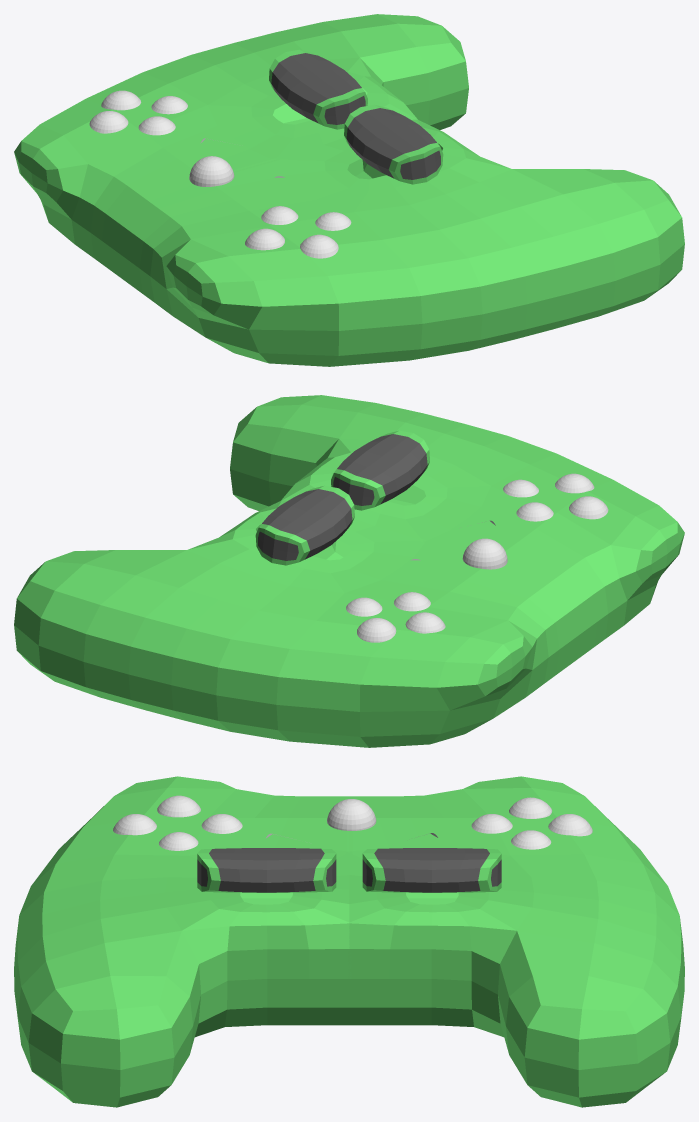
The model's file is controller.glb.
3 views of the same model, one above another, from view 1: azimuth 30°, elevation 25°; view 2: azimuth 150°, elevation 25°; view 3: azimuth 270°, elevation 25° (orthographic). The views are drawn at different scales.
Visible parts, largest first — view 1: Cube, Sphere.001, Sphere.002, Sphere; view 2: Cube, Sphere.002, Sphere.001, Sphere; view 3: Cube, Sphere.002, Sphere.001, Sphere.
Boxes of the visible parts, bbox=[...] form: Cube: bbox=[14, 14, 684, 366]; Sphere.001: bbox=[245, 206, 351, 258]; Sphere.002: bbox=[89, 90, 187, 135]; Sphere: bbox=[189, 156, 234, 186]; Cube: bbox=[14, 395, 684, 747]; Sphere.002: bbox=[346, 592, 445, 642]; Sphere.001: bbox=[503, 473, 608, 521]; Sphere: bbox=[462, 538, 507, 569]; Cube: bbox=[14, 776, 684, 1107]; Sphere.002: bbox=[471, 797, 592, 849]; Sphere.001: bbox=[113, 795, 242, 850]; Sphere: bbox=[327, 799, 376, 830].
Bounding box in the file's own units: 2.7 × 0.8476 × 3.11.
